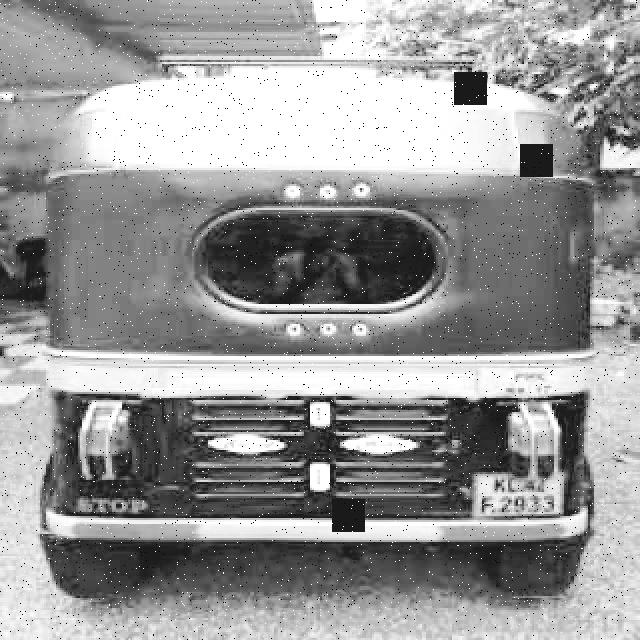Auto-Rickshaw: (46, 74, 598, 598)
